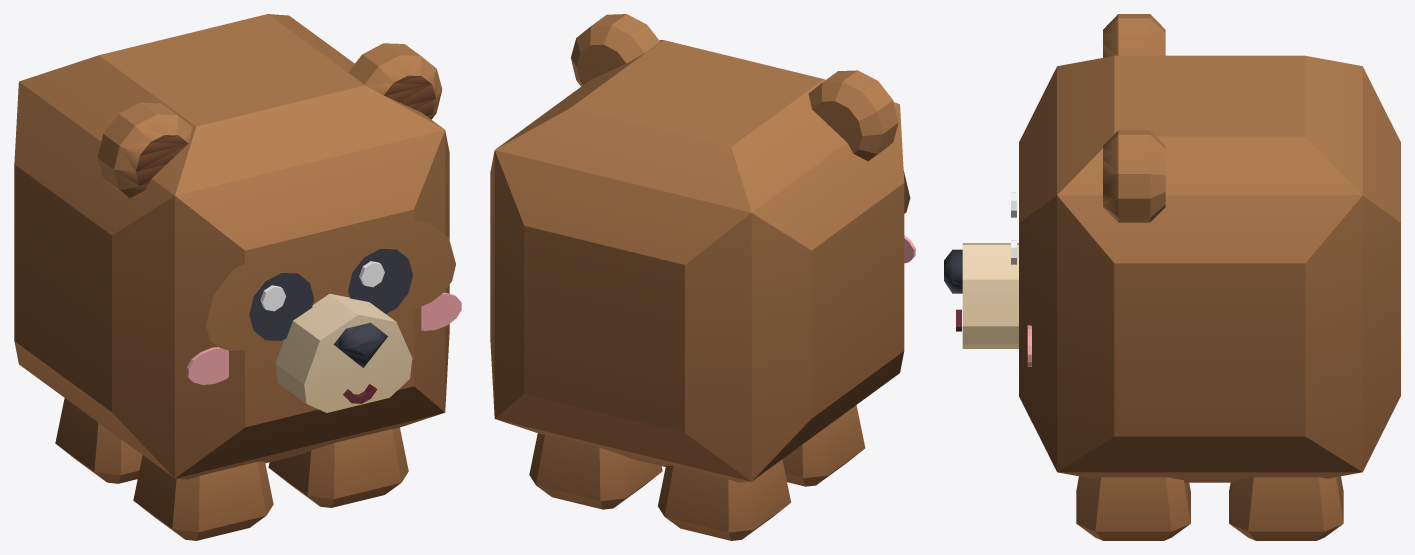
File: bear.glb
The picture shows the model from 3 angles, left to right: view 1: azimuth 30°, elevation 25°; view 2: azimuth 150°, elevation 25°; view 3: azimuth 270°, elevation 25°; orthographic projection. The views are drawn at different scales.
Visible parts, largest first — view 1: body, leg-front-right, leg-front-left, leg-back-right; view 2: body, leg-back-right, leg-back-left, leg-front-right; view 3: body, leg-back-left, leg-front-left.
Boxes of the visible parts, x1,y1,x2,y2 form: body: (14, 14, 461, 479); leg-front-right: (133, 455, 273, 540); leg-front-left: (268, 427, 408, 507); leg-back-right: (55, 398, 142, 483); body: (490, 14, 915, 482); leg-back-right: (658, 459, 790, 540); leg-back-left: (529, 433, 662, 509); leg-front-right: (782, 405, 865, 486); body: (944, 14, 1400, 482); leg-back-left: (1229, 476, 1343, 540); leg-front-left: (1076, 476, 1190, 540).
Size of the model in its own units: 1.25 by 1.5 by 1.5.
1 material, 1 textured.
